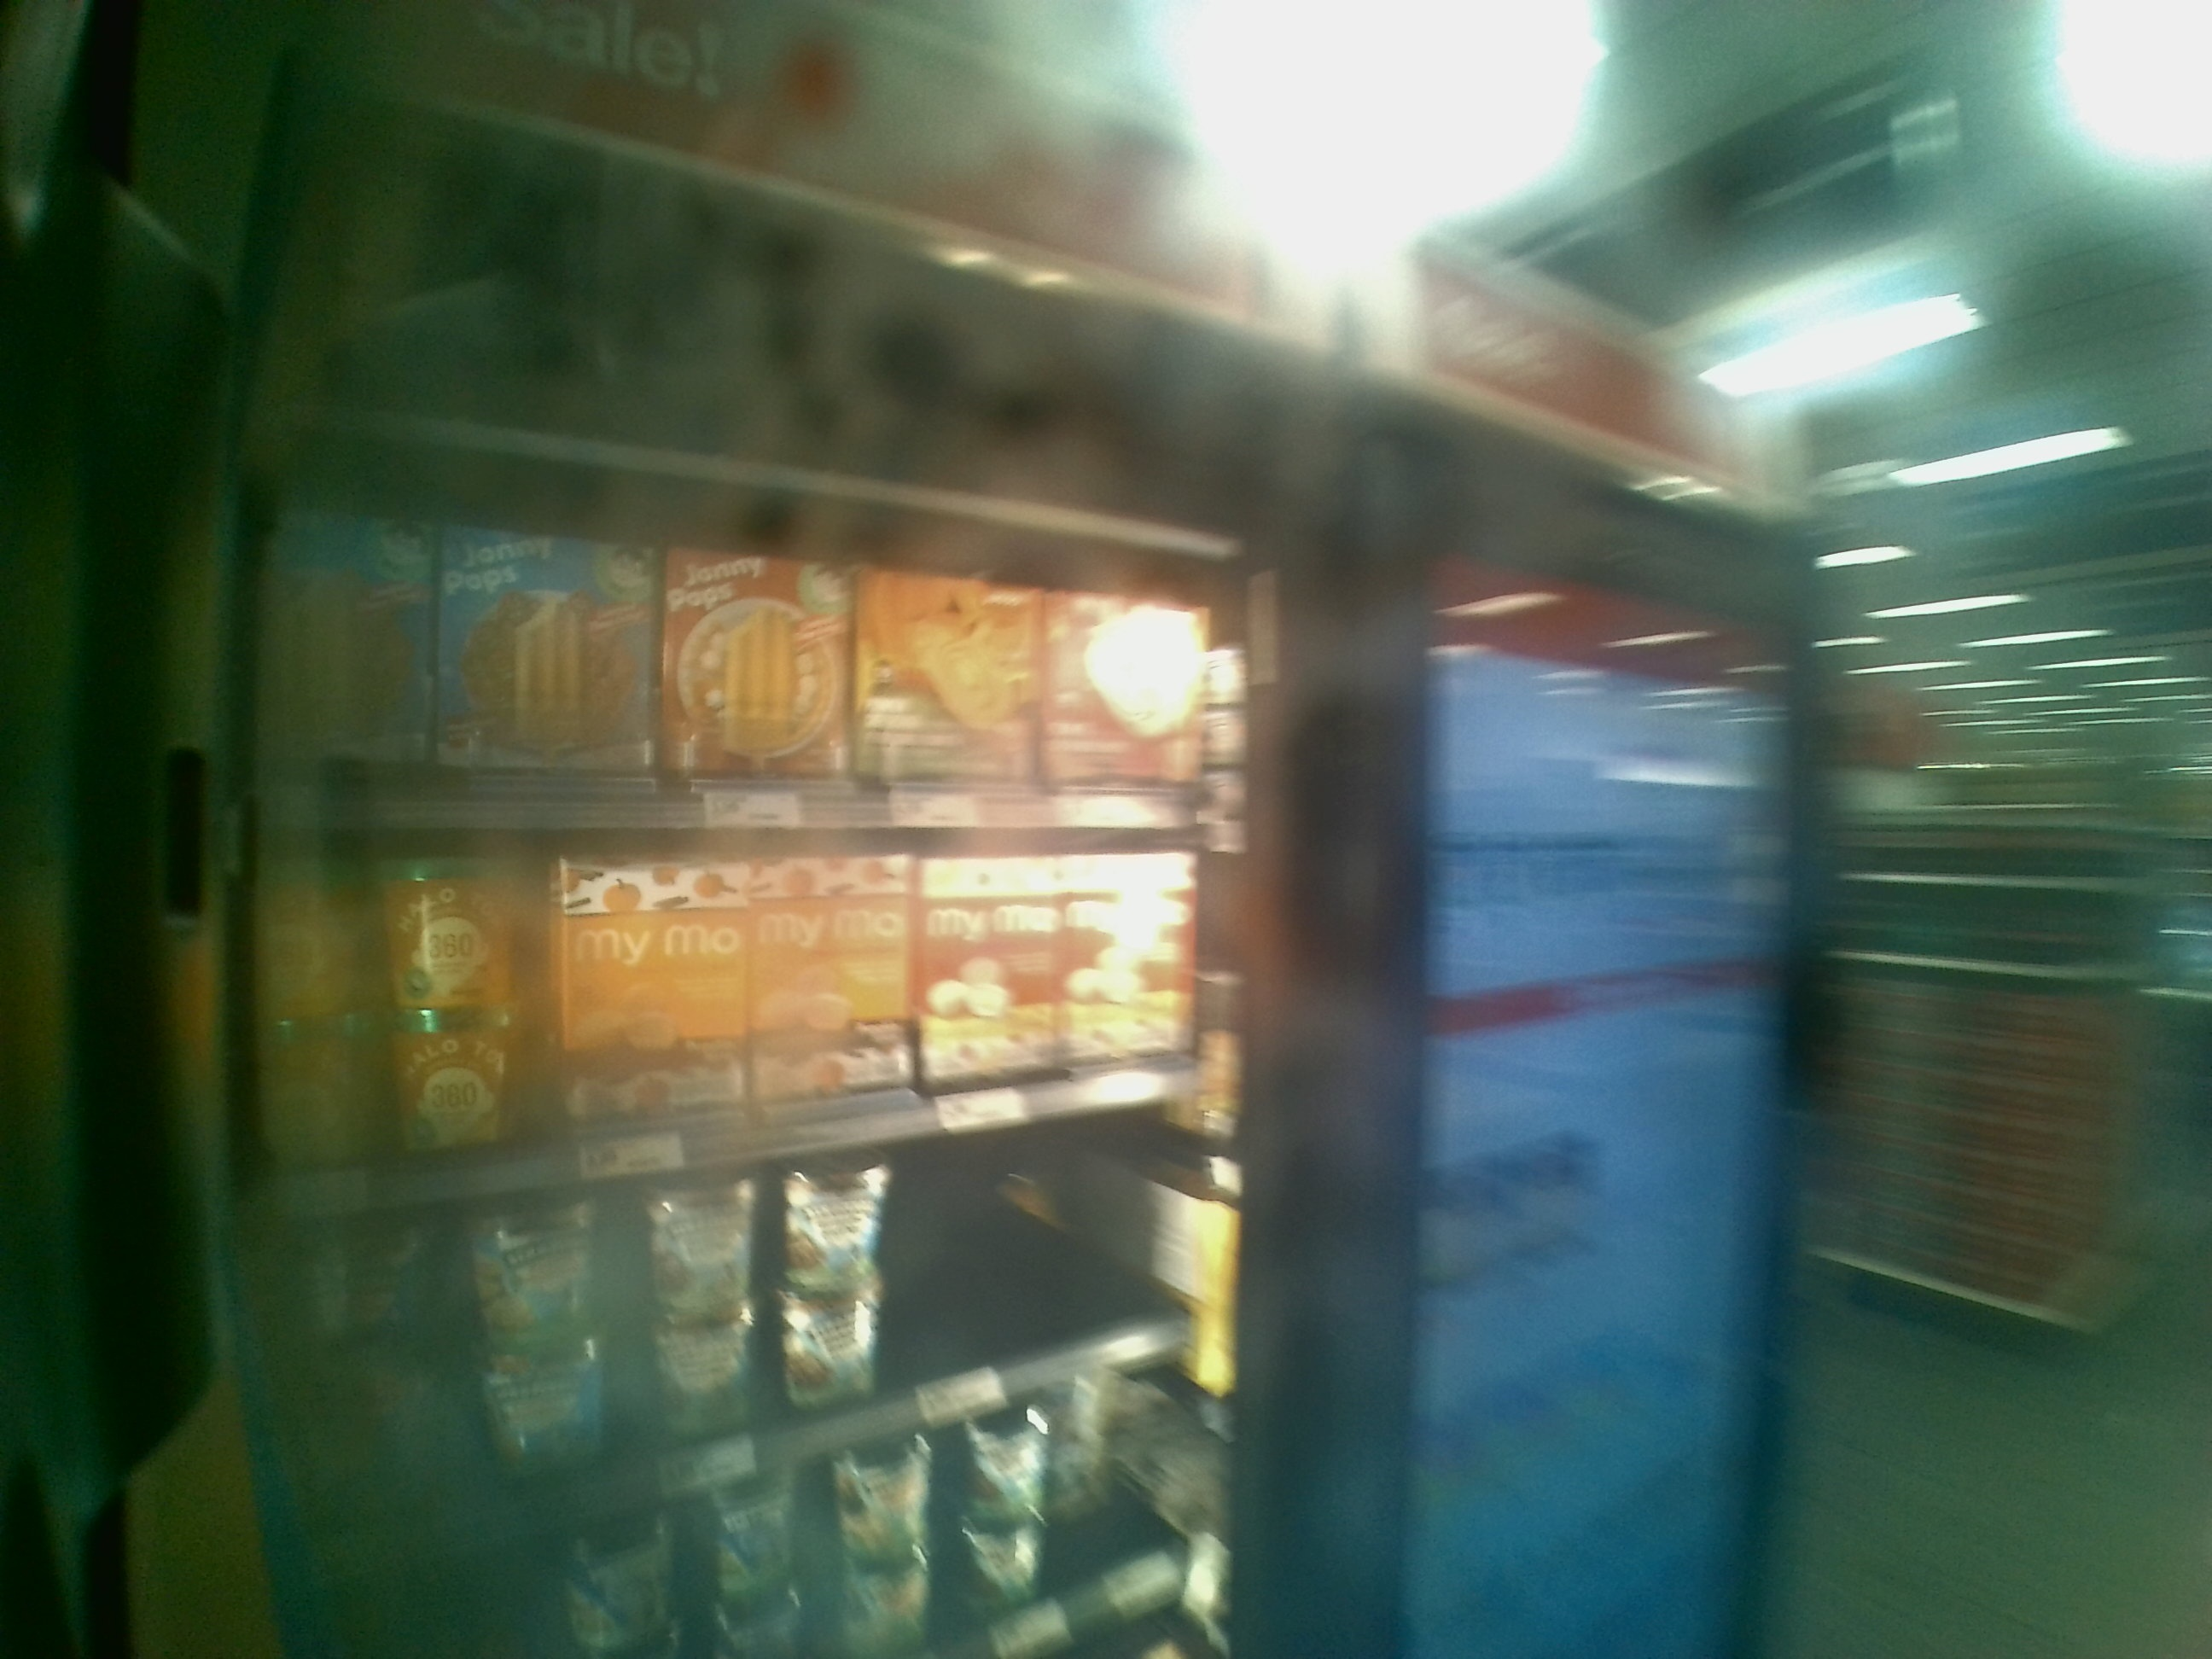shelf: (284, 793, 1212, 1089)
